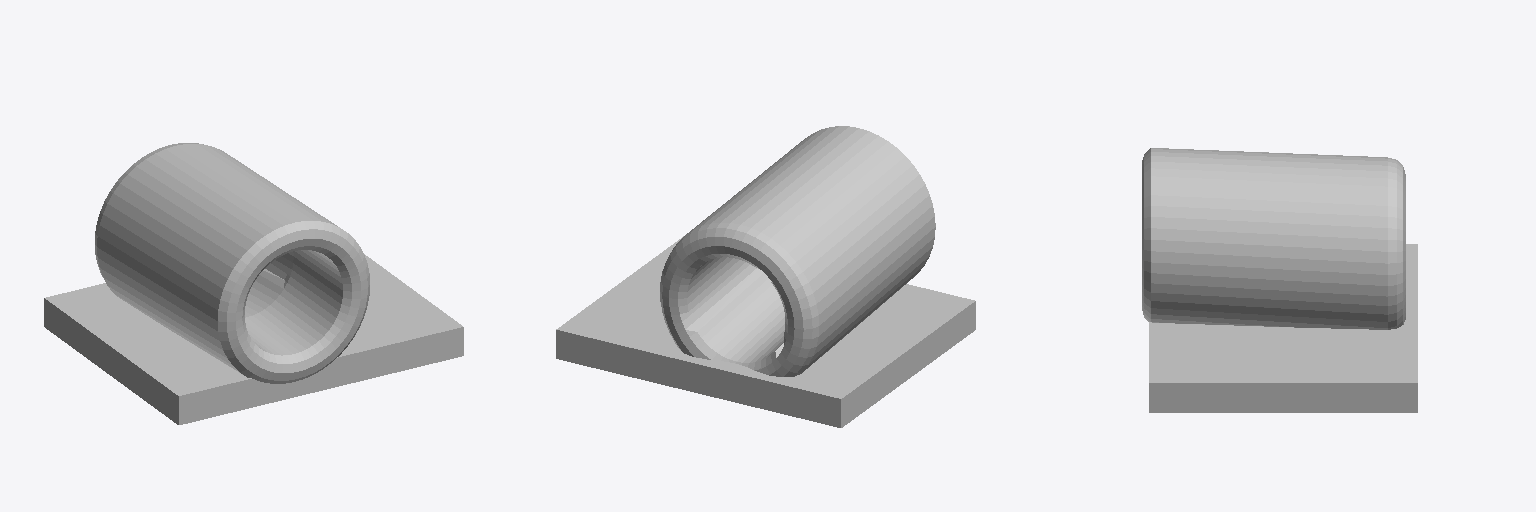
The model's file is Halo.obj.
3 renders of one model, left to right at view 1: azimuth 30°, elevation 25°; view 2: azimuth 150°, elevation 25°; view 3: azimuth 270°, elevation 25°, orthographic.
Parts seen in each view (by area): view 1: Torus, Cube; view 2: Torus, Cube; view 3: Torus, Cube.
Part boxes in pixels (left/top/right/bottom): Torus: left=95, top=143, right=369, bottom=383; Cube: left=44, top=254, right=463, bottom=424; Torus: left=660, top=126, right=935, bottom=376; Cube: left=556, top=236, right=975, bottom=427; Torus: left=1142, top=148, right=1405, bottom=329; Cube: left=1149, top=244, right=1417, bottom=412.
Bounding box in the file's own units: 4.54 × 2.65 × 3.82.